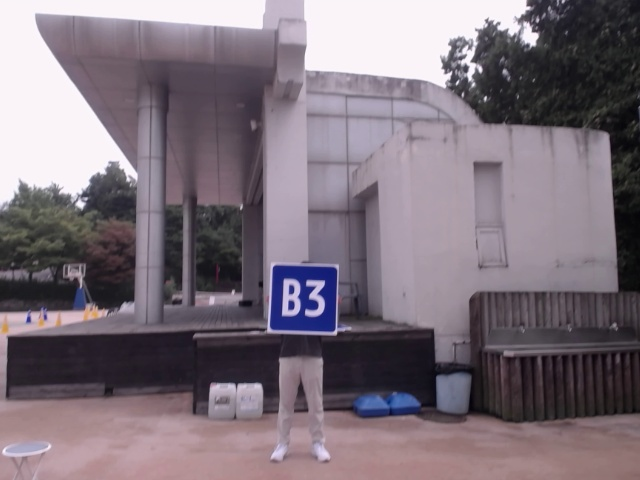delivery_b3: (271, 263, 338, 333)
